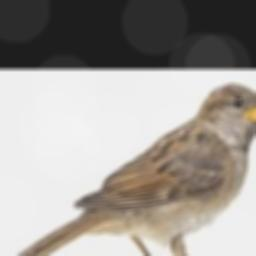Sparrow: (12, 83, 256, 256)
